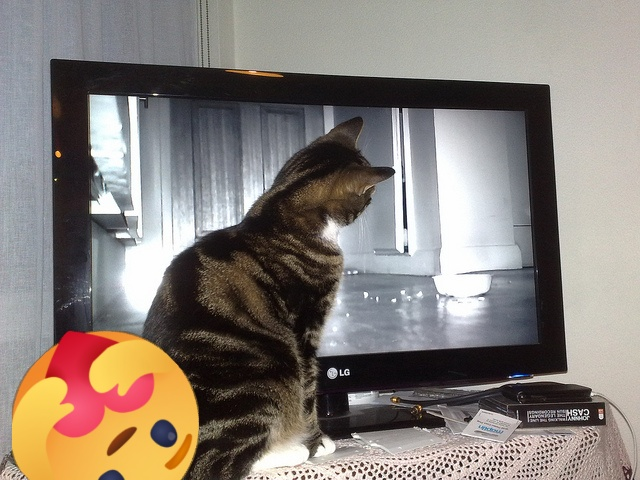care: (12, 331, 199, 480)
